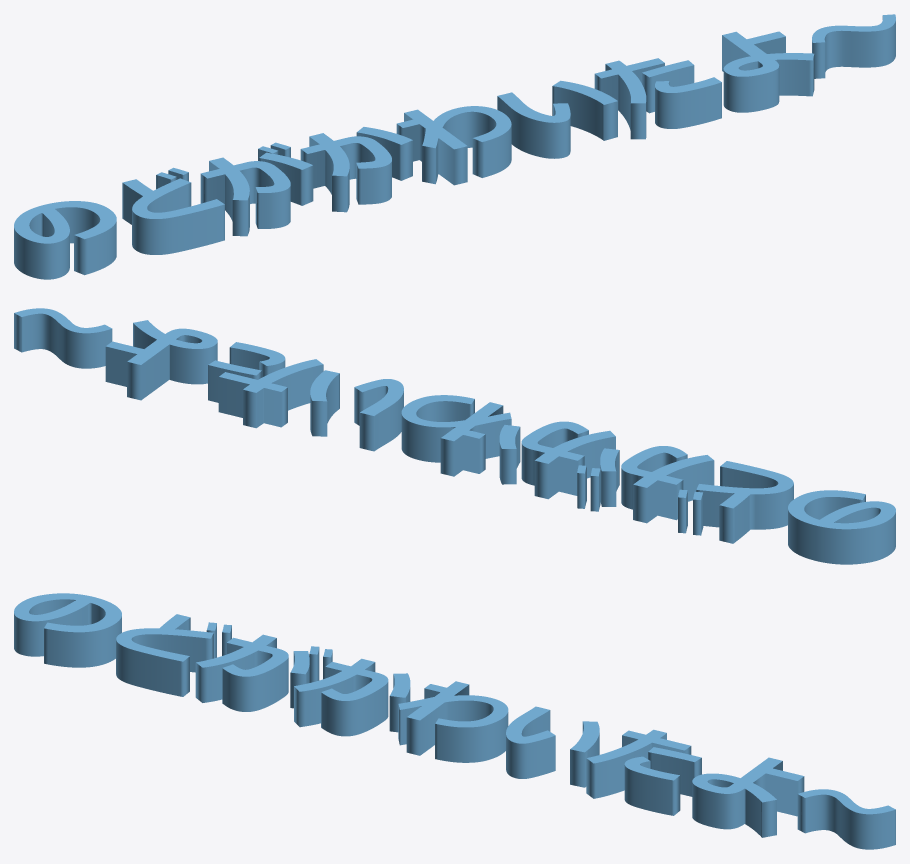
File: thirsty2.glb
3 renders of one model, top to bottom at view 1: azimuth 30°, elevation 25°; view 2: azimuth 150°, elevation 25°; view 3: azimuth 330°, elevation 25°, orthographic.
Parts seen in each view (by area): view 1: テキスト; view 2: テキスト; view 3: テキスト.
Boxes of the visible parts, <box> form: テキスト: <box>14,14,895,279</box>; テキスト: <box>14,308,895,564</box>; テキスト: <box>14,593,895,849</box>.
Size of the model in its own units: 7.7 by 0.3 by 0.7925.
